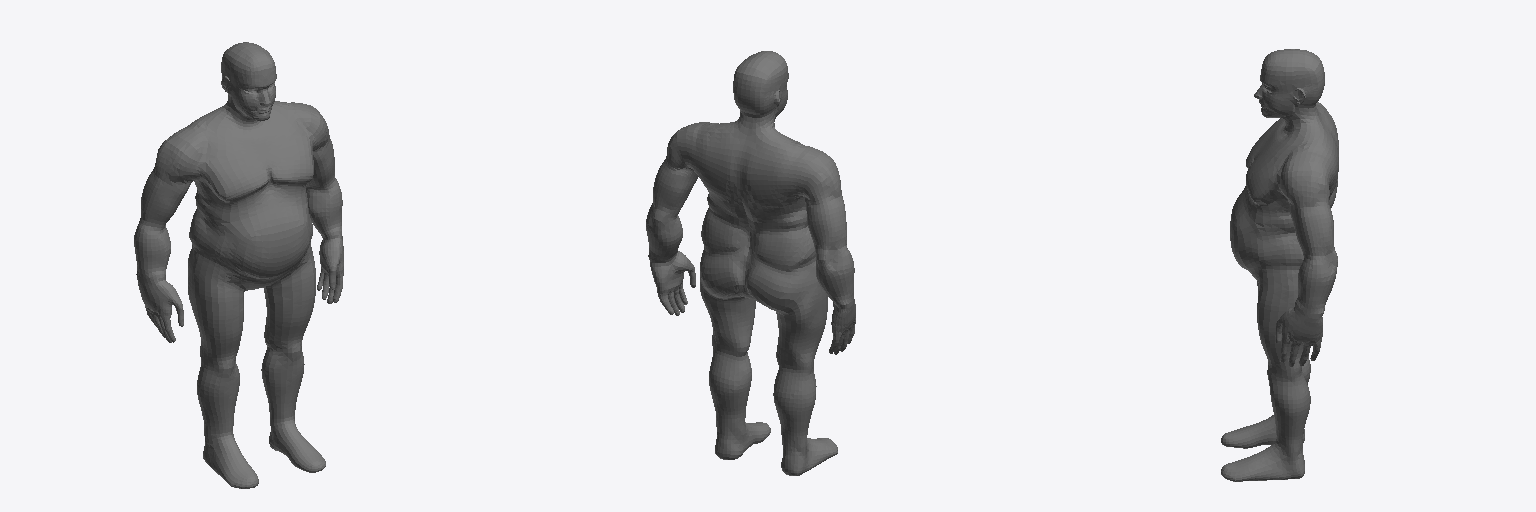
File: LowPoly_Aristocrata_Corpo.obj
3 renders of one model, left to right at view 1: azimuth 30°, elevation 25°; view 2: azimuth 150°, elevation 25°; view 3: azimuth 270°, elevation 25°, orthographic.
Parts seen in each view (by area): view 1: LowPoly_Aristocrata_Corpo; view 2: LowPoly_Aristocrata_Corpo; view 3: LowPoly_Aristocrata_Corpo.
Boxes of the visible parts, box(x1,y1,x2,y2) form: LowPoly_Aristocrata_Corpo: box(134, 42, 343, 488); LowPoly_Aristocrata_Corpo: box(646, 51, 855, 475); LowPoly_Aristocrata_Corpo: box(1221, 49, 1338, 481).
Bounding box in the file's own units: 80.06 × 154 × 40.37.